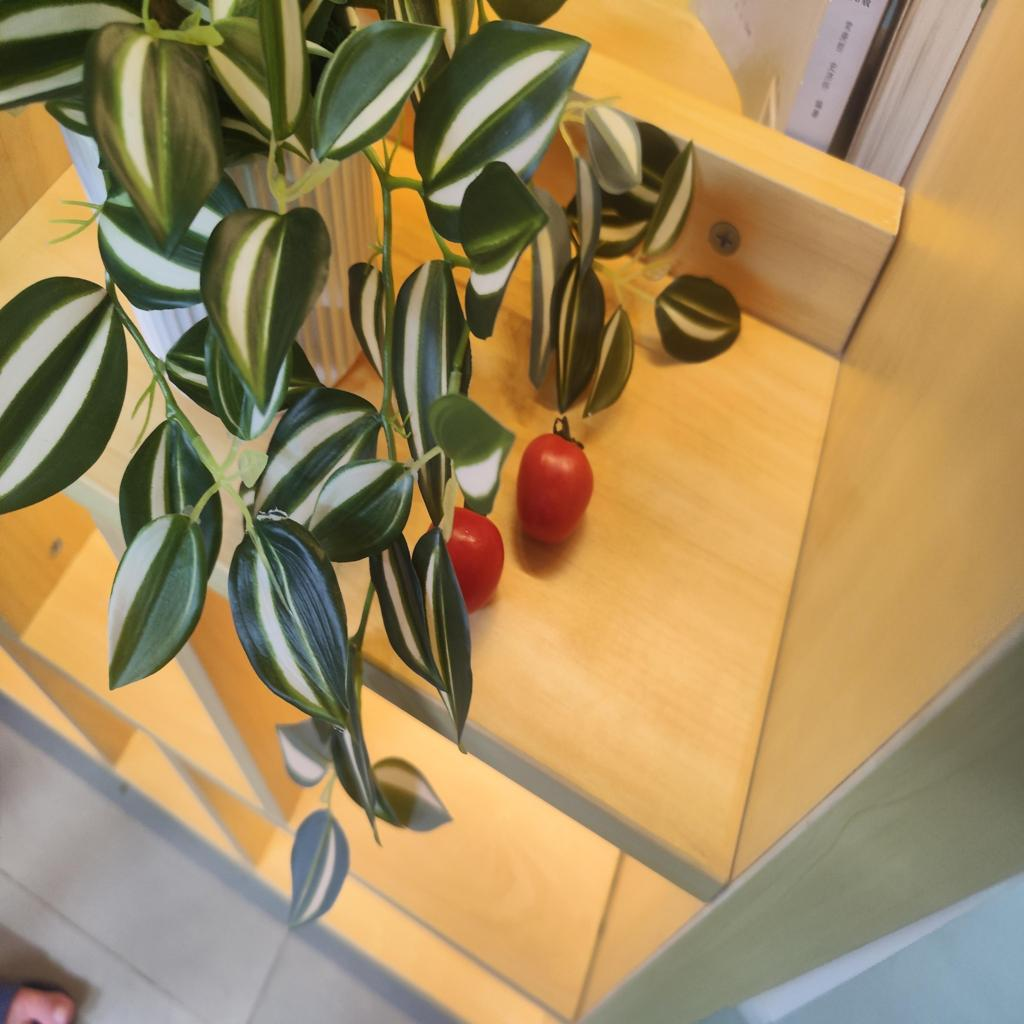tomato: (512, 420, 589, 549), (422, 507, 502, 623)
